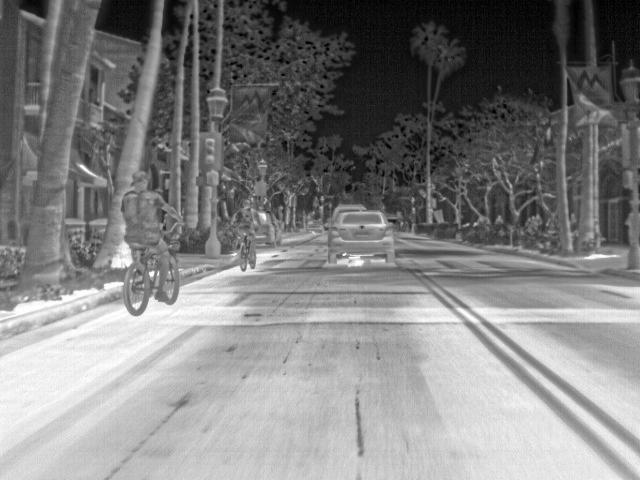car: (328, 208, 397, 264), (253, 209, 283, 248), (331, 203, 368, 224), (306, 220, 324, 232)
person: (122, 171, 178, 297), (237, 209, 257, 260), (546, 211, 559, 231), (567, 211, 580, 227), (534, 213, 546, 230), (522, 216, 534, 228), (530, 212, 538, 229), (495, 215, 506, 224)
